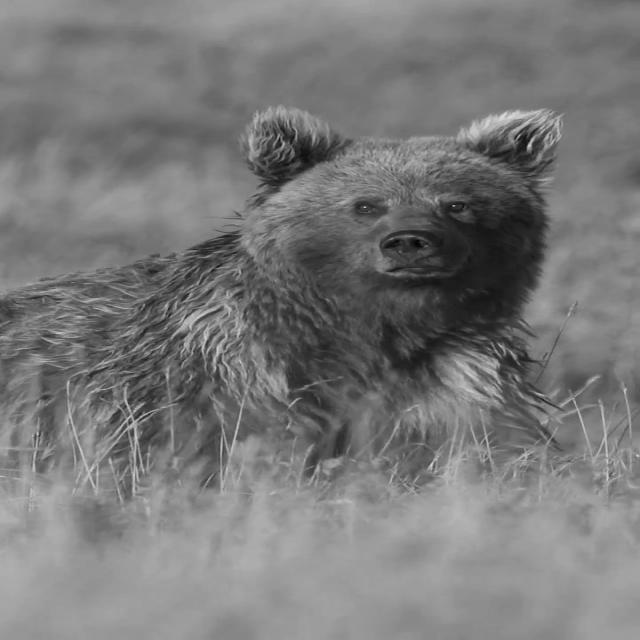Bear: (1, 104, 568, 507)
